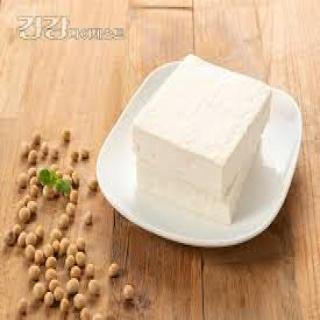Tahu: (111, 53, 281, 235)
